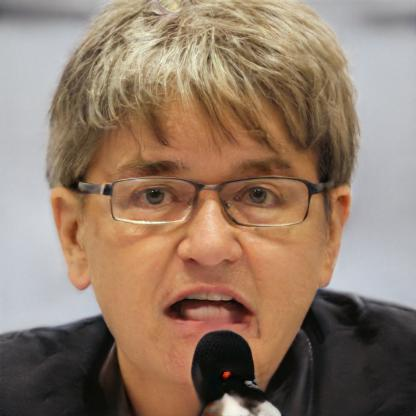glasses: (96, 172, 321, 233)
